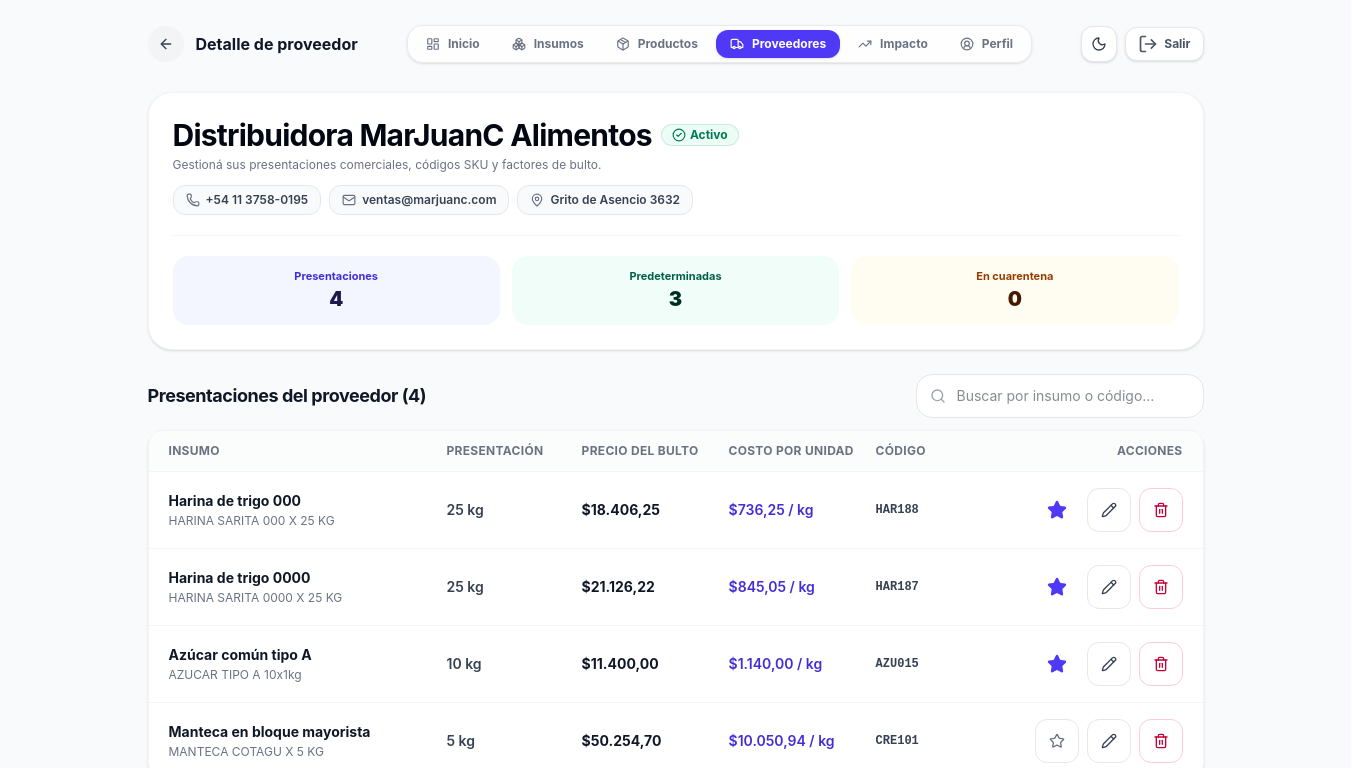
Test case: SupplierDetailPage (/proveedores/:id) — Escenarios Gherkin › Escenario Gherkin "Quitar la predeterminada": si responde 409 se le pide elegir otra primero
This screenshot has width=1366, height=768.
Check: the heading "Distribuidora MarJuanC Alimentos" is shown, box top-left (172, 117), bottom-right (652, 153)
Click the button named "Quitar presentación de Harina de trigo 000" at (1160, 510), box top-left (1138, 488), bottom-right (1182, 532)
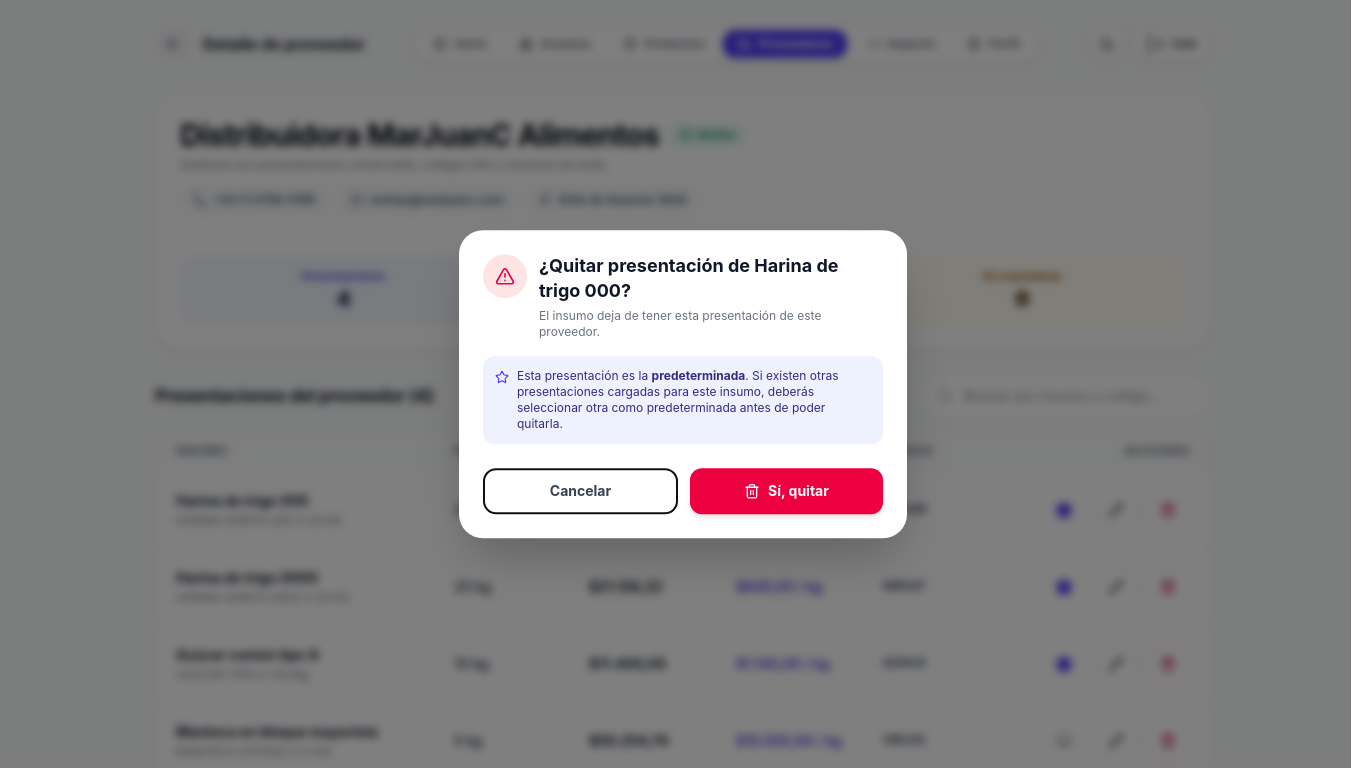
Check: the dialog does not show "$18.406,25", box top-left (459, 230), bottom-right (907, 538)
Check: the dialog shows "¿Quitar presentación de Harina de trigo 000?", box top-left (459, 230), bottom-right (907, 538)
Click the button "Sí, quitar" at (786, 491), box top-left (690, 468), bottom-right (883, 514)
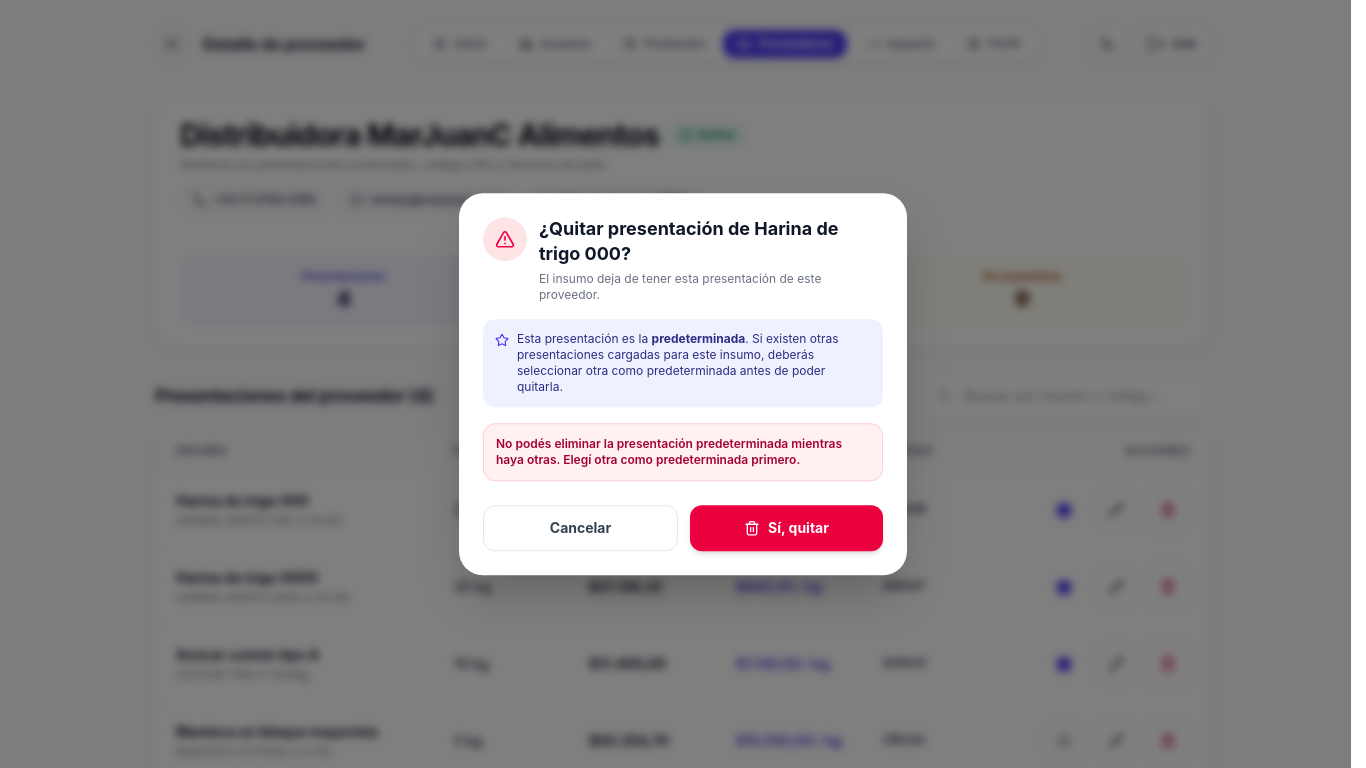
Check: the text "No podés eliminar la presentación predeterminada mientras haya otras. Elegí otra como predeterminada primero." is shown, box top-left (496, 436), bottom-right (842, 467)
